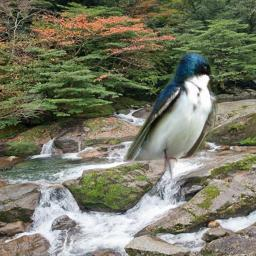Swallow: (123, 50, 218, 180)
